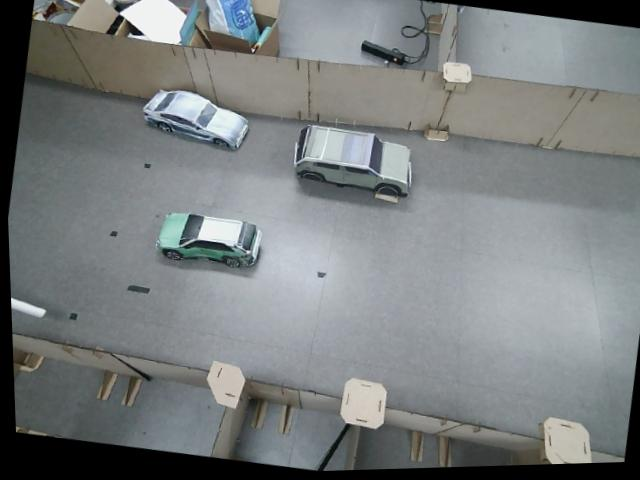car: (284, 117, 421, 205), (135, 81, 255, 157), (150, 204, 267, 277)
